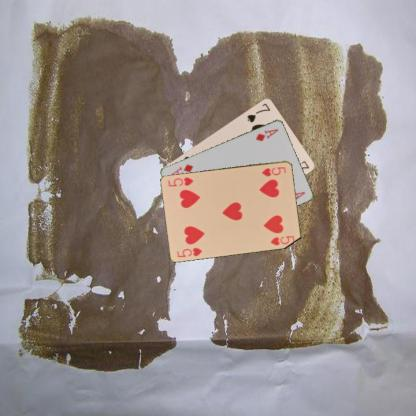5h: (174, 244, 204, 258), (260, 164, 287, 177)
7s: (244, 100, 272, 124)
Ad: (253, 126, 280, 142)
